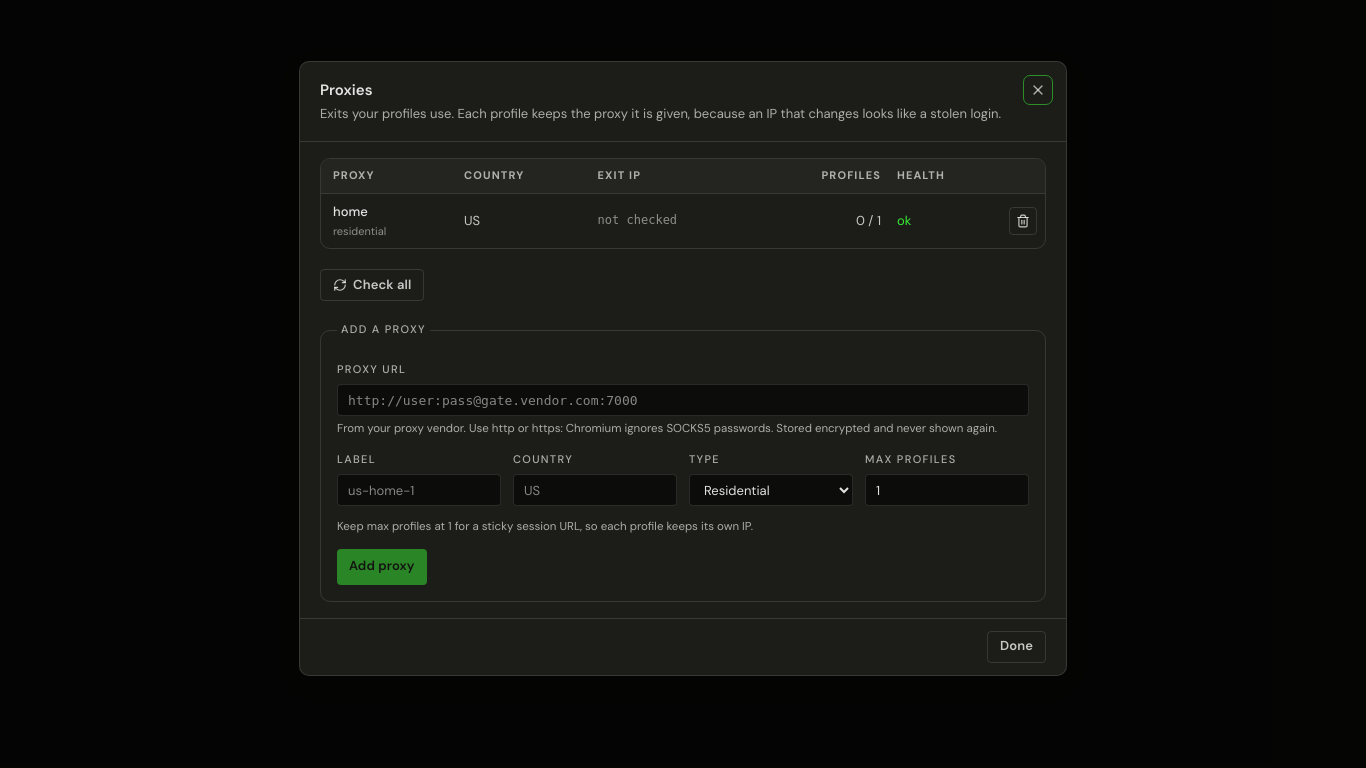
Test: ProxiesDialog › reports how many proxies failed a check
Click the button "Check all". click: (372, 285)
box: [320,269,424,301]
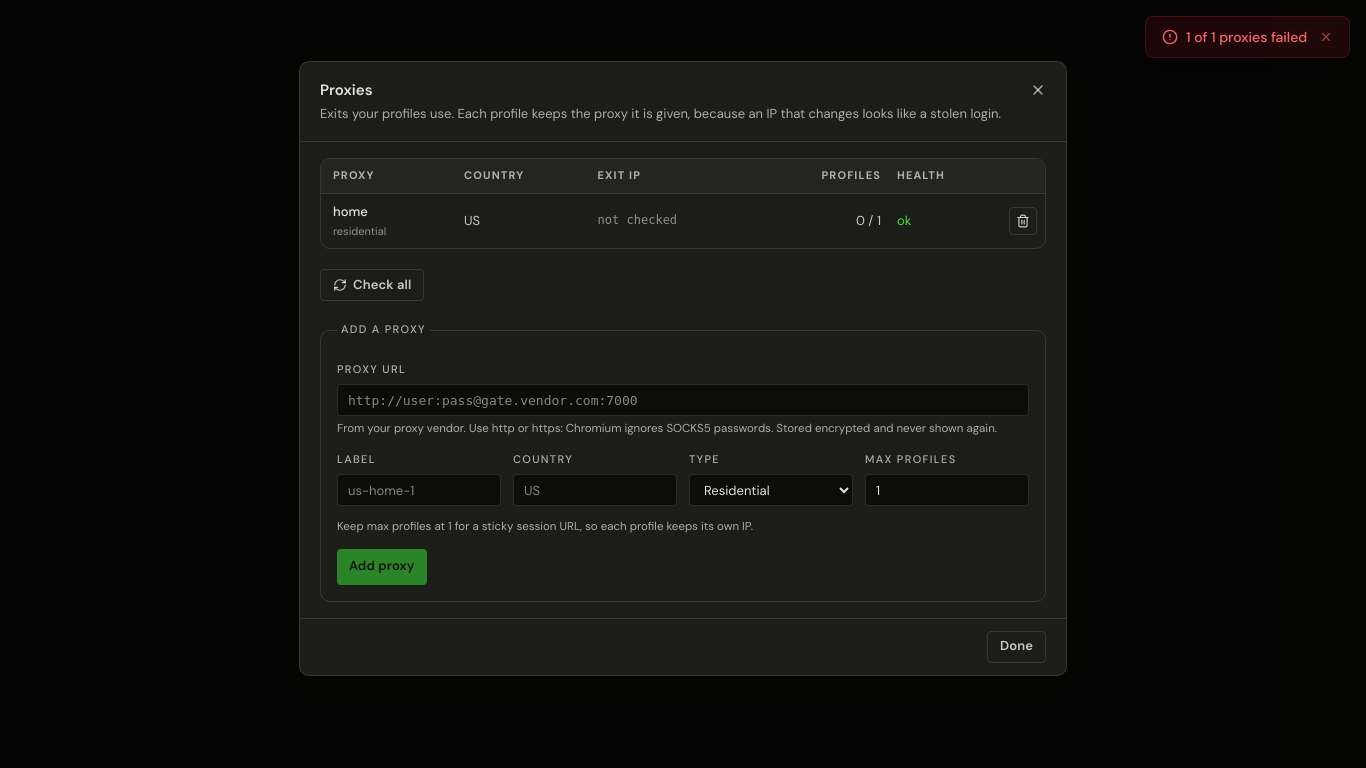
Result: the text "1 of 1 proxies failed" is shown at [1186,27,1307,47]
